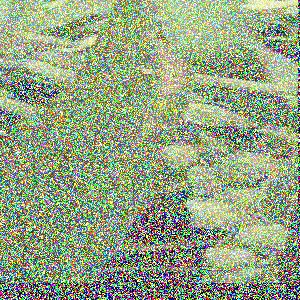Leaf_Blast: (78, 0, 187, 148)
